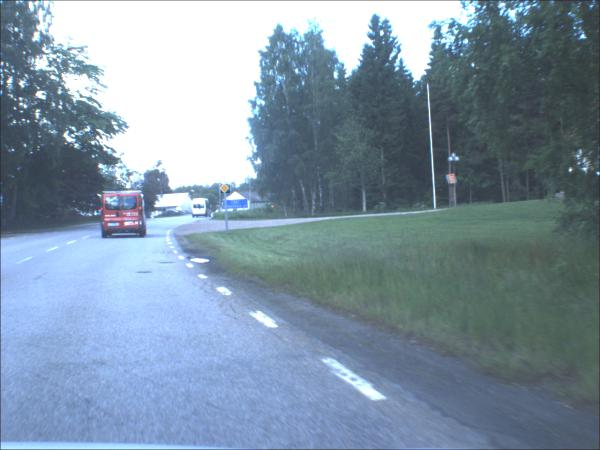PRIORITY_ROAD: (223, 185, 233, 195)
